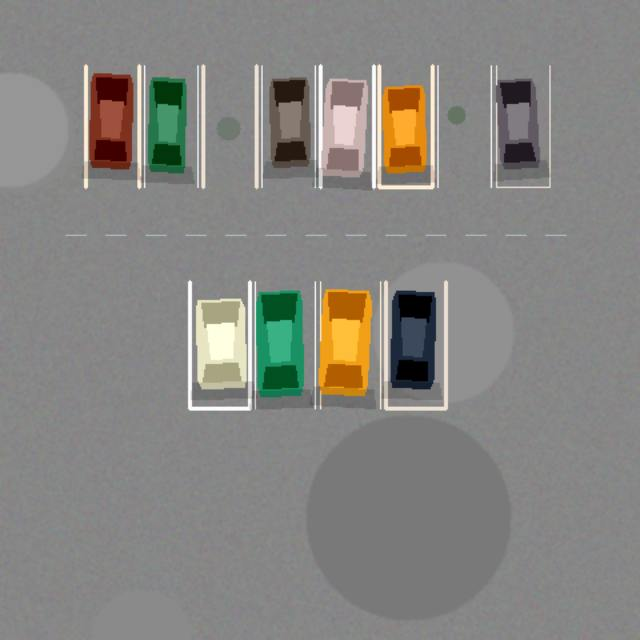space-empty: (437, 65, 491, 187), (203, 65, 256, 187)
space-occupied: (189, 281, 249, 408), (255, 281, 315, 408), (320, 281, 380, 408), (385, 281, 445, 408), (85, 65, 139, 187), (261, 65, 315, 187), (144, 65, 197, 187), (320, 65, 373, 187), (379, 65, 432, 187), (496, 65, 549, 187)
